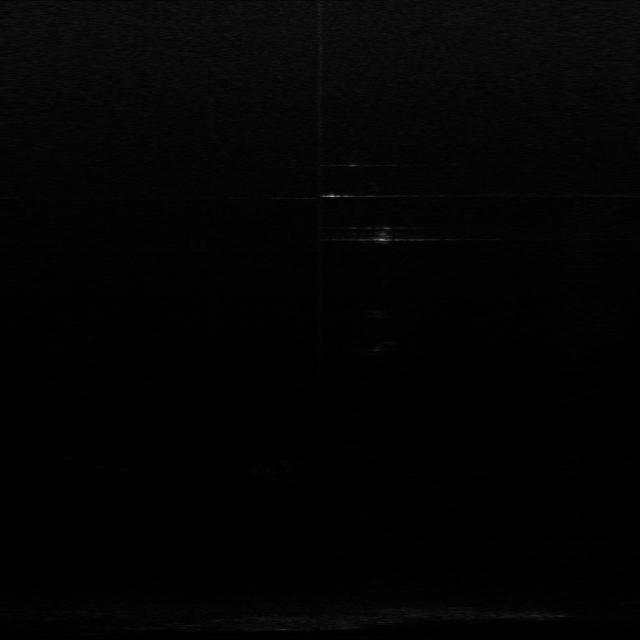rov: (370, 224, 396, 246)
